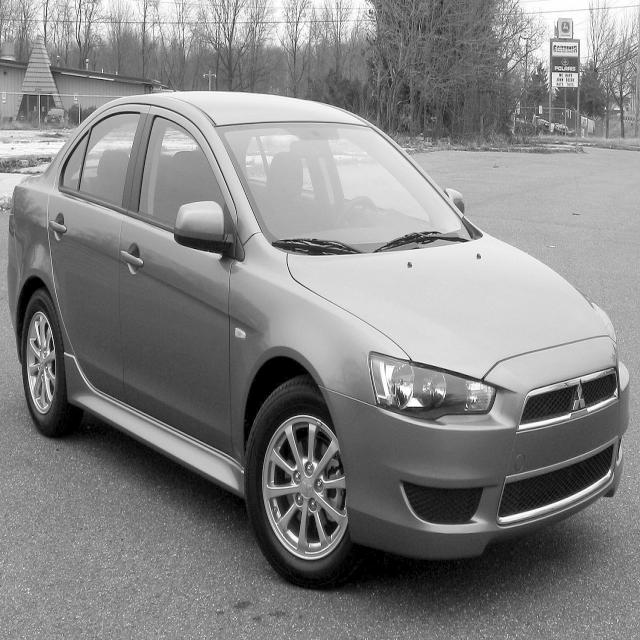car: (7, 88, 630, 588)
